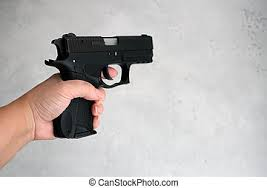gun: (44, 32, 154, 140)
